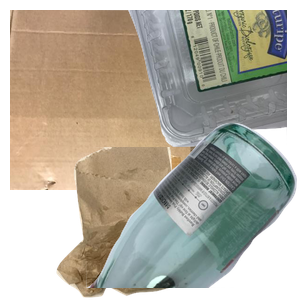cardboard: (10, 10, 250, 190)
glass: (86, 120, 300, 300)
plastic: (60, 10, 300, 149)
trash: (54, 147, 271, 300)
